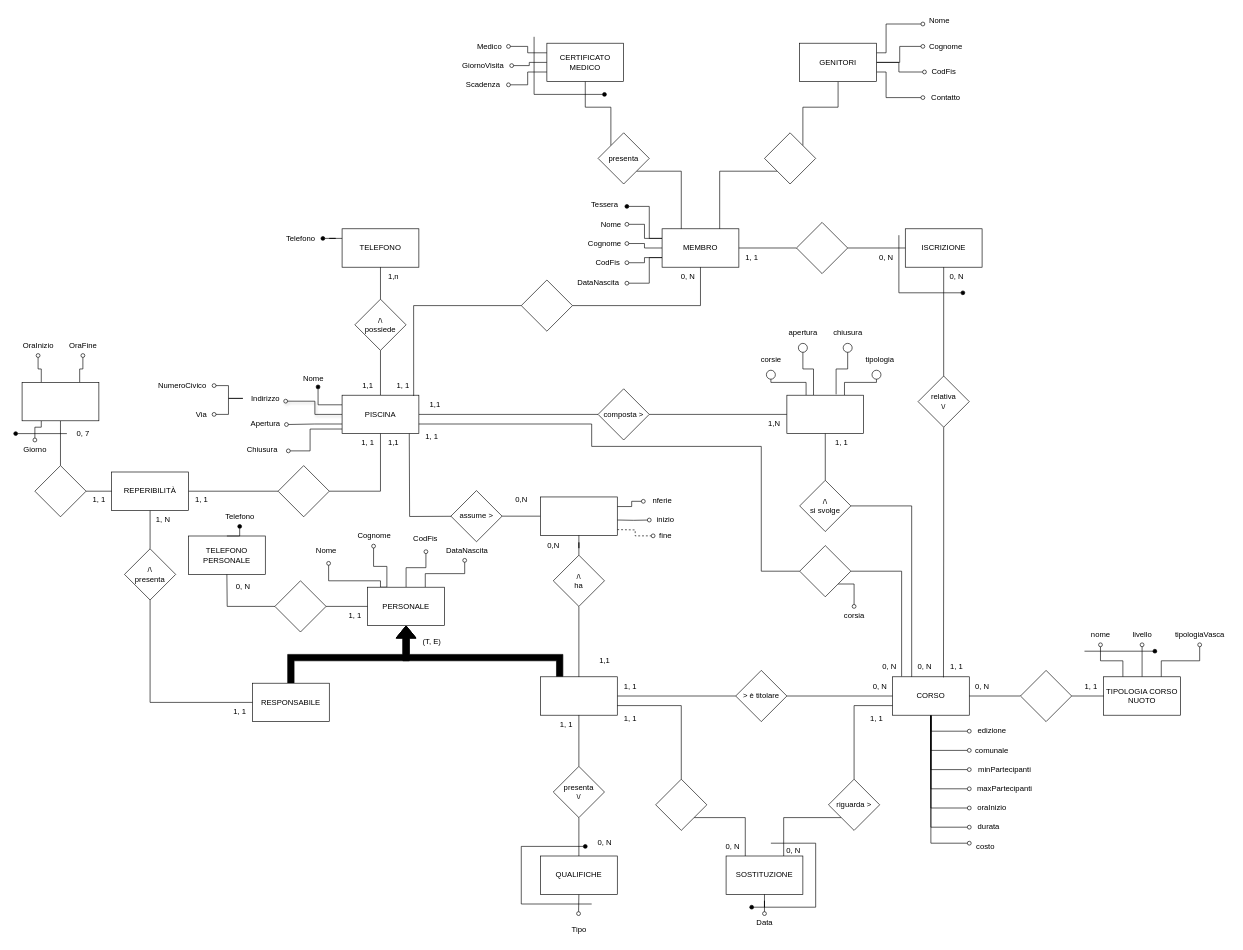
Image size: 1243x950. Some labels were removed from this diagram. The shapes that lost their labels are listed below. From the top down, each one's centre as x and y in pixels, then its label:
[790,158]: accompagna
[822,248]: effetua >
[546,305]: frequenta
[60,401]: GIORNO REPERIBILITA
[825,414]: VASCA
[60,491]: /\ durante
[303,491]: < è diretta
[578,515]: CONTRATTO
[825,571]: < effettuato
[300,606]: possiede \/
[578,695]: ISTRUTTORE
[1046,696]: < raggruppa
[681,804]: > riceve
